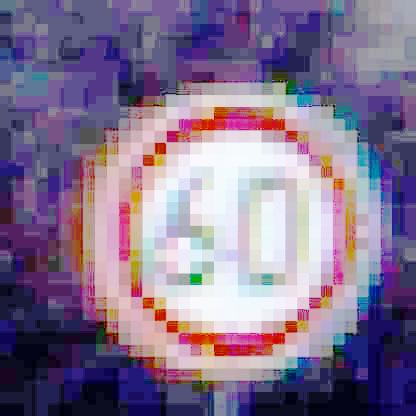Speed Limit -60-: (92, 87, 371, 374)
